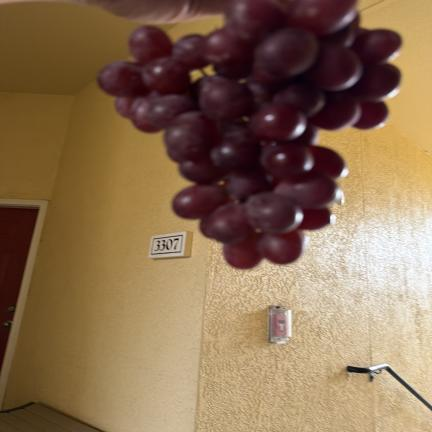grape_cluster: (98, 0, 401, 269)
